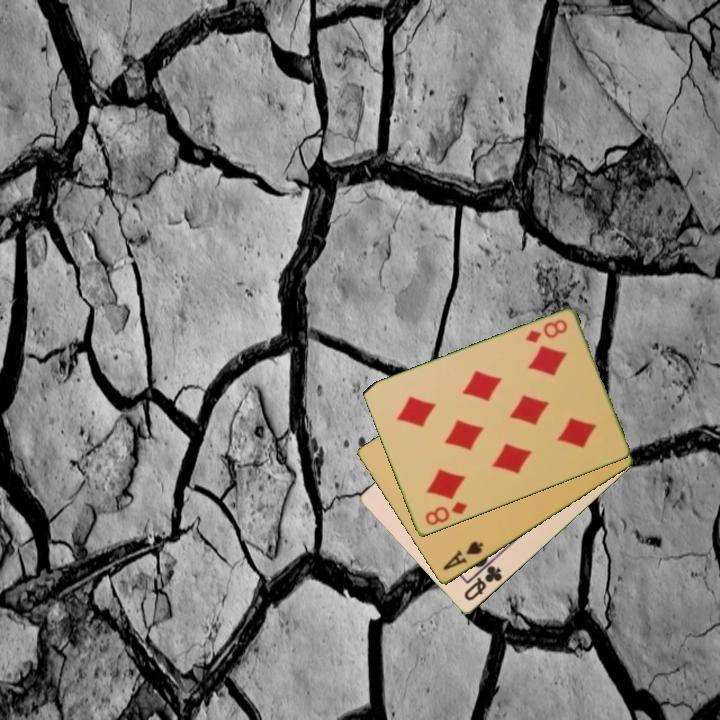8d: (421, 499, 470, 529), (522, 316, 570, 346)
As: (439, 538, 487, 574)
Qc: (460, 562, 505, 604)
